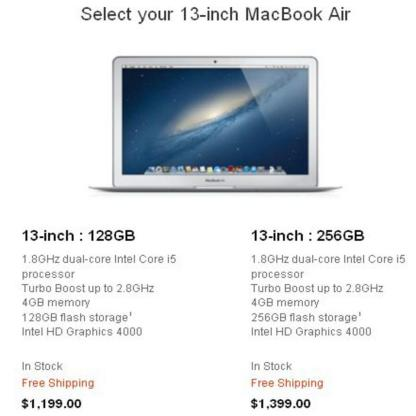board: (101, 56, 342, 184)
